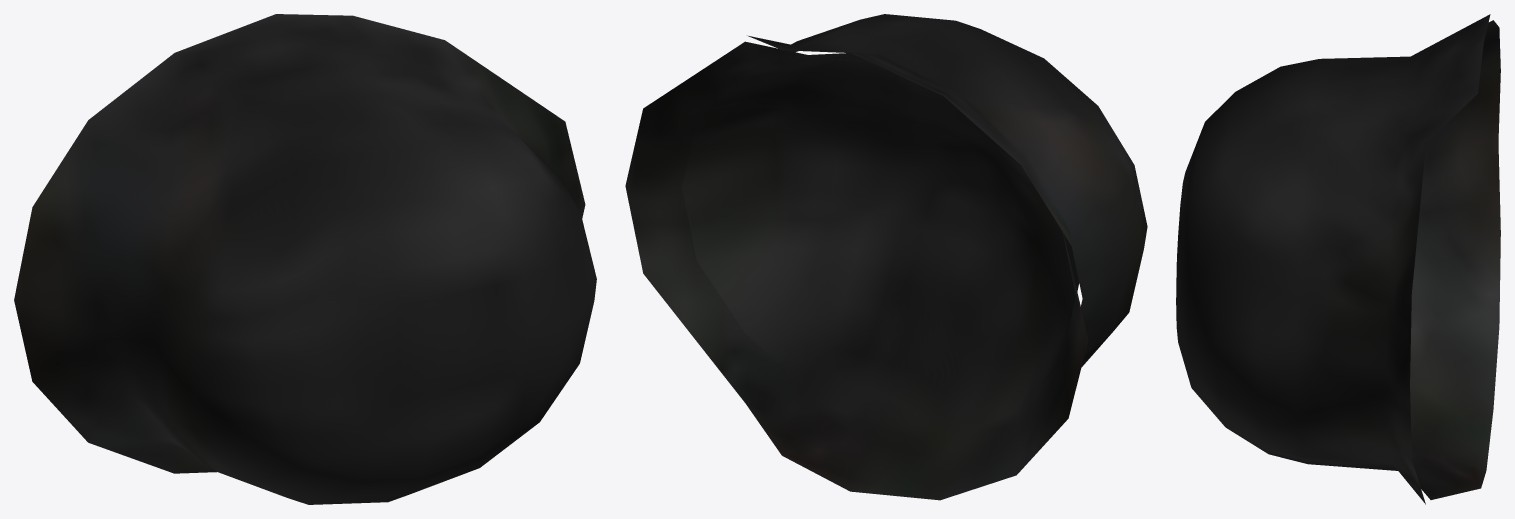
Rendered from helmet_german_winter_jon.glb.
3 renders of one model, left to right at view 1: azimuth 30°, elevation 25°; view 2: azimuth 150°, elevation 25°; view 3: azimuth 270°, elevation 25°, orthographic. The views are drawn at different scales.
Bounding box in the file's own units: 11.98 × 9.91 × 6.72.
Materials: 1 (1 with a texture image).
